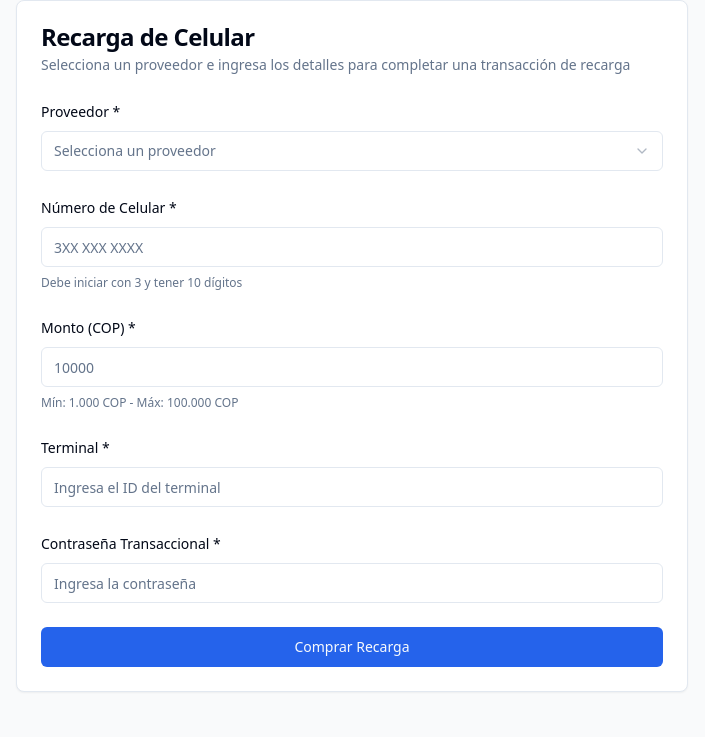
it: TopUpPage › Business Rule: Phone Validation › should show error for phone not starting with 3
Type "2001234567" into the field labelled "Número de Celular *" at x=352, y=247, box [41,227,663,267]
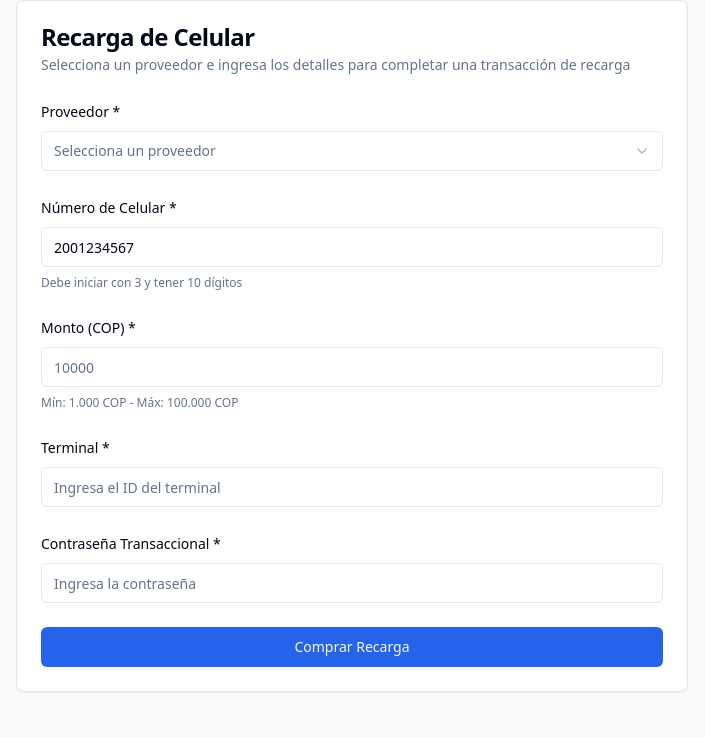
Leave the field labelled "Número de Celular *", box [41,227,663,267]
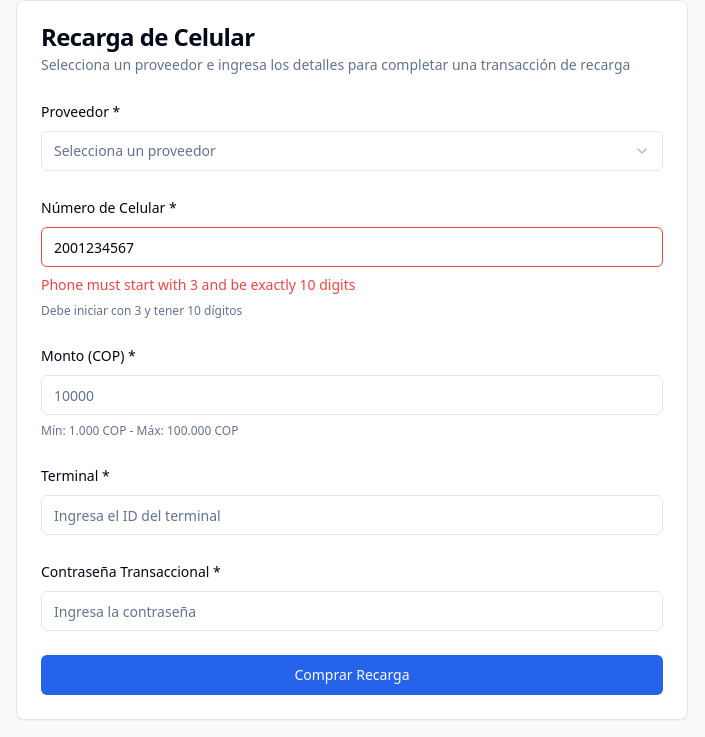
Expected: the text "Phone must start with 3 and be exactly 10 digits" is shown, [41,275,355,294]
